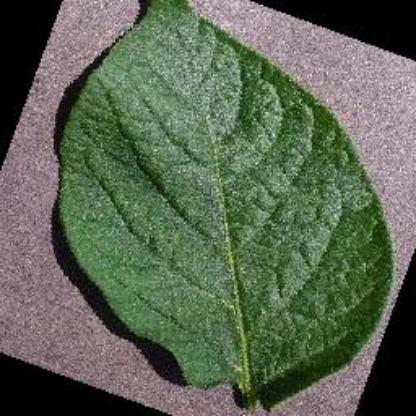Healthy-plant: (56, 0, 391, 400)
